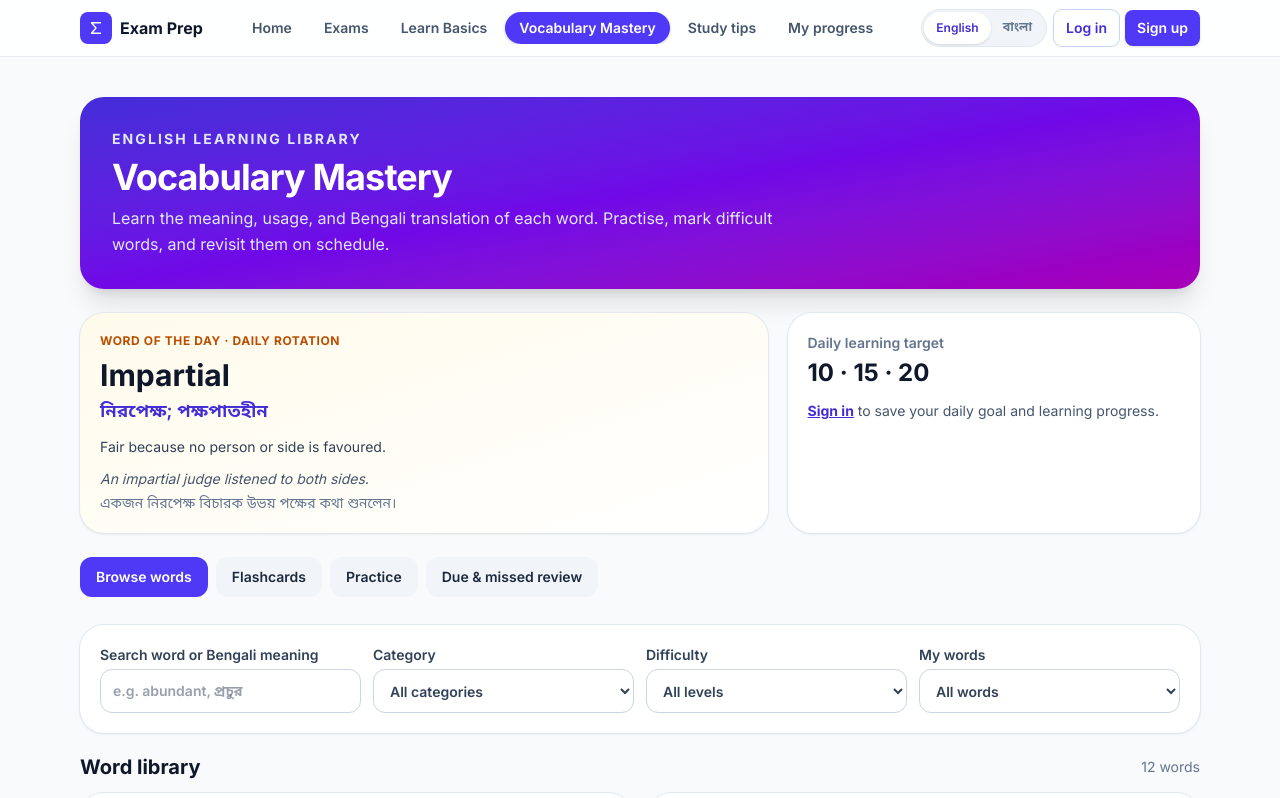
Scenario: Vocabulary Mastery › keeps flashcard answers hidden until the student reveals them
Click the button "Flashcards" at (269, 577), box [216,557,322,597]
(page scrolled)
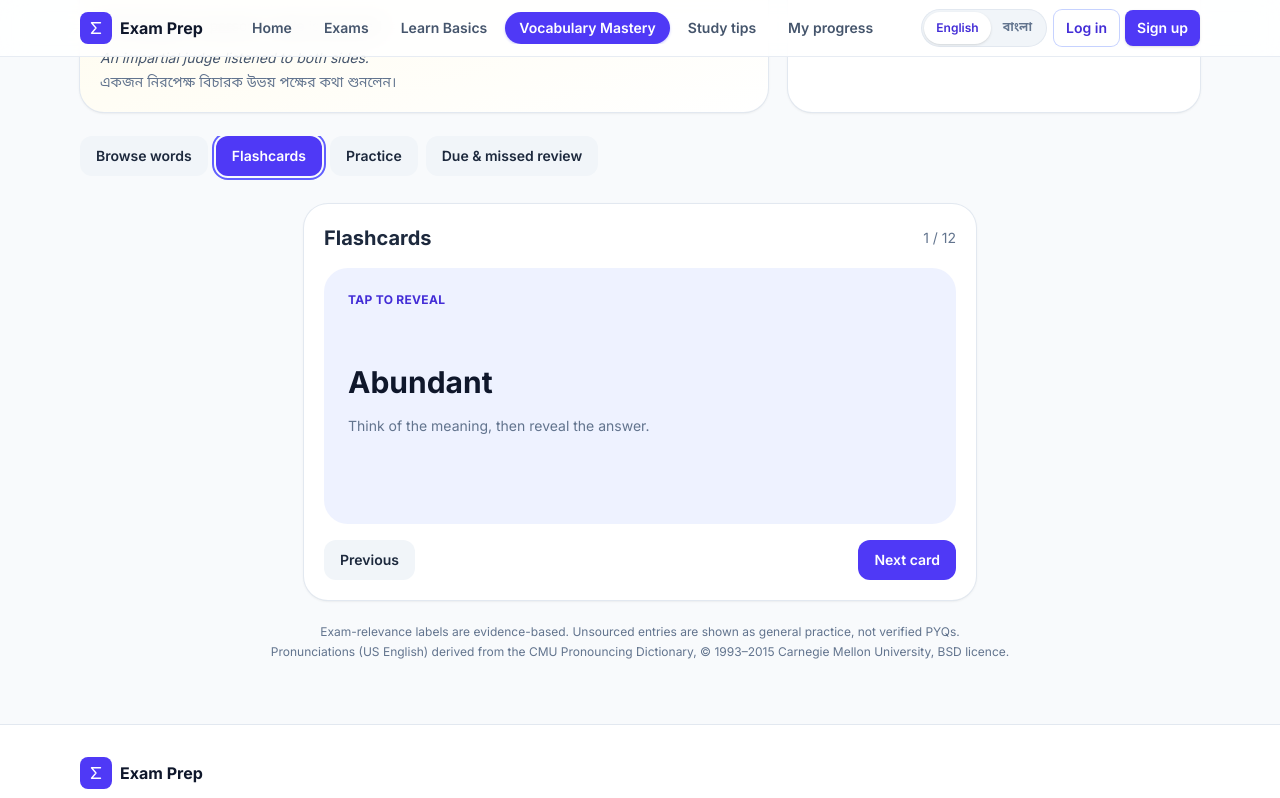
Check: the text "প্রচুর; প্রাচুর্যপূর্ণ" is not shown
Click the button with aria-label "Reveal flashcard answer" at (420, 382), box [348,320,932,480]
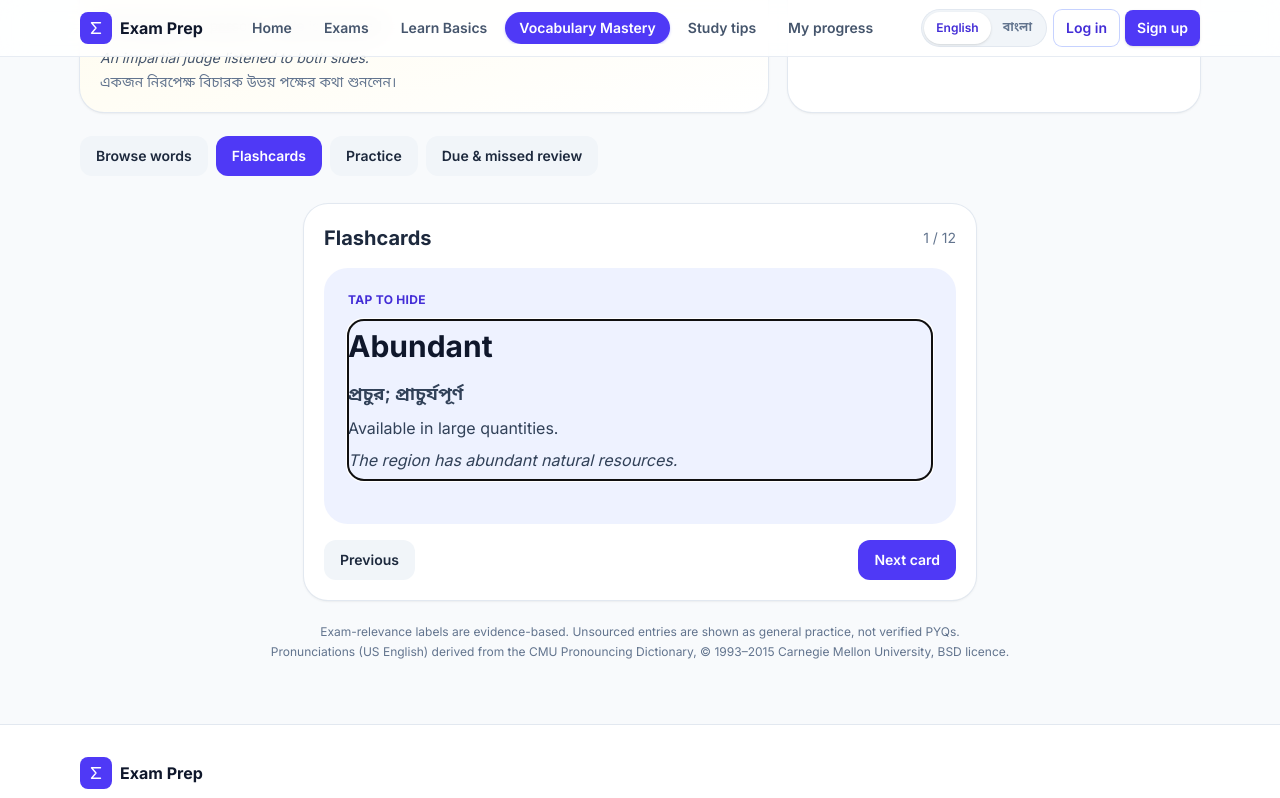
Check: the text "প্রচুর; প্রাচুর্যপূর্ণ" is shown, box [348,383,463,404]
